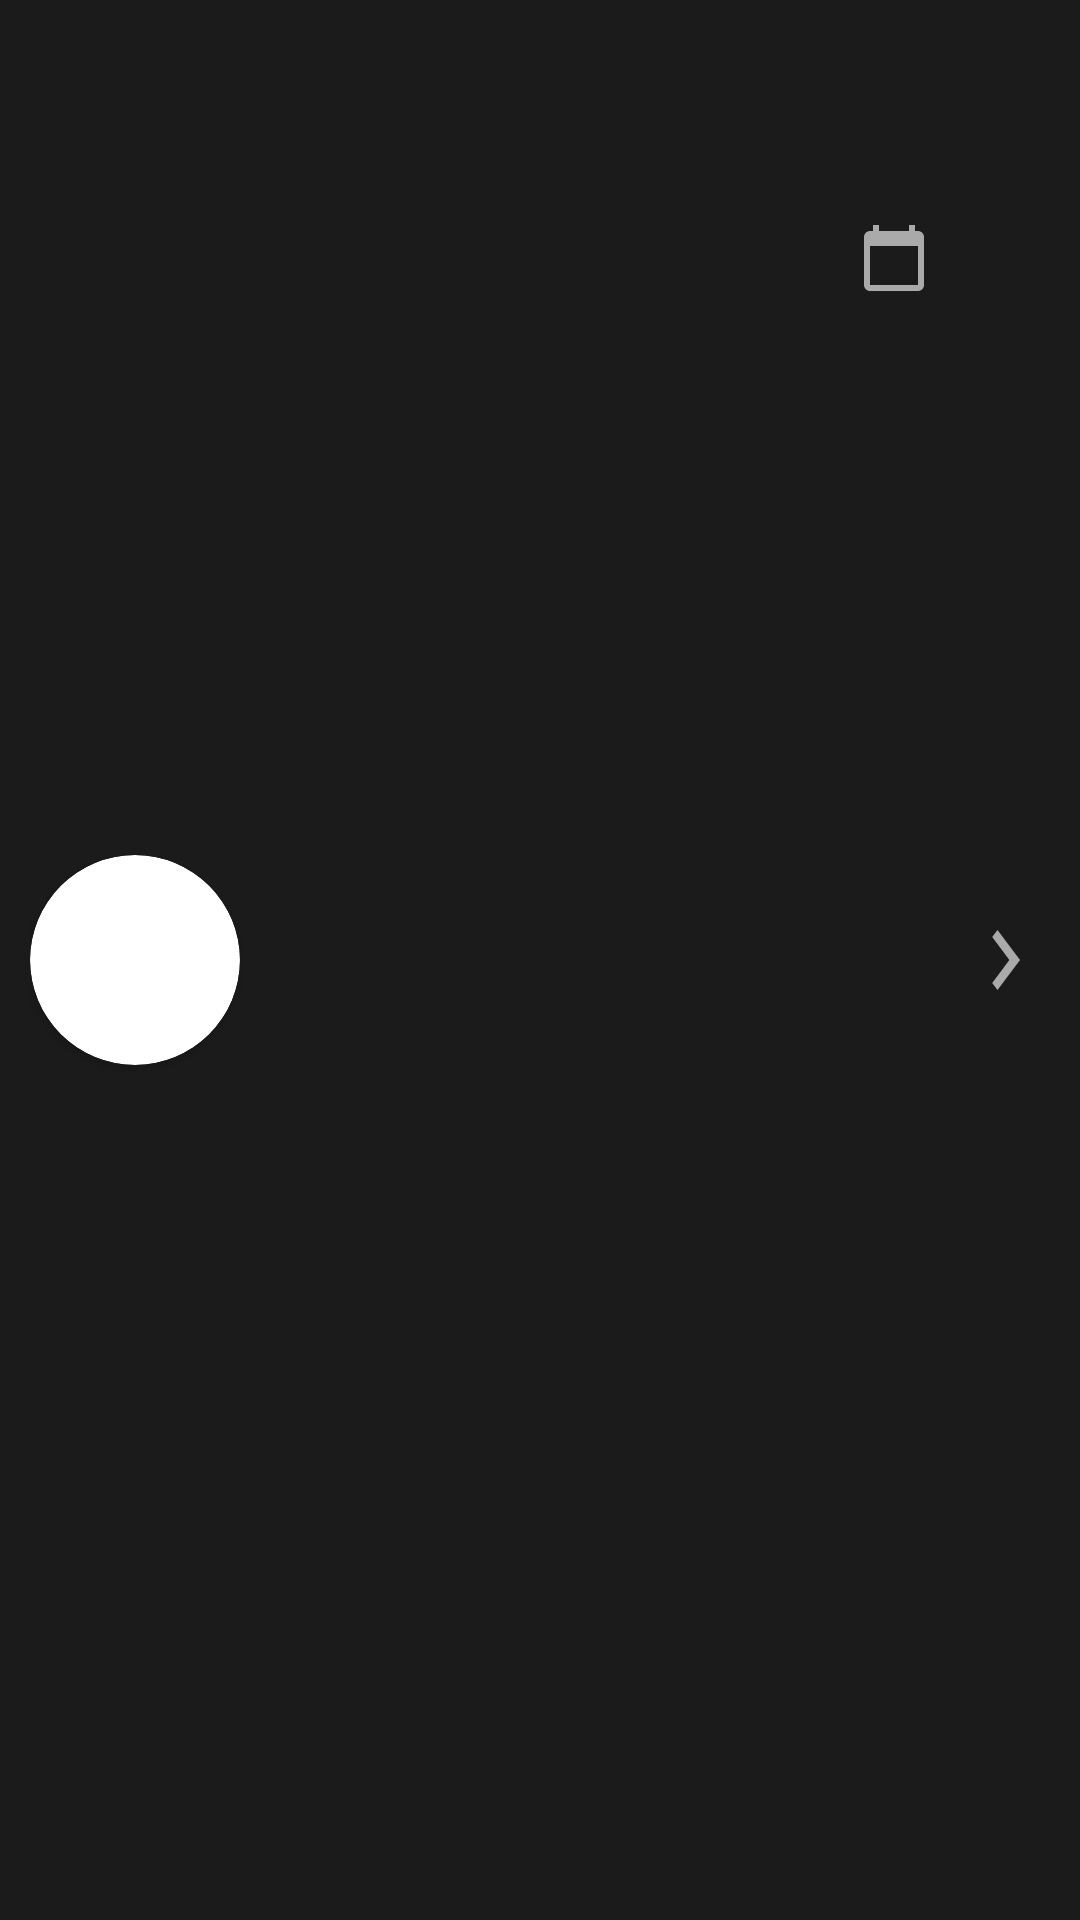

Where to tap for icons on this 1080x1920 app screen, as point (x, y):
keyboard arrow right: point (1006, 960)
